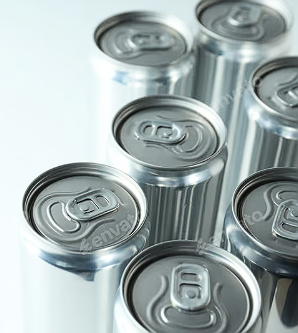Intacto: (125, 240, 262, 332), (23, 166, 147, 253), (113, 93, 226, 166), (225, 167, 298, 265), (97, 12, 198, 77), (193, 0, 298, 50), (250, 55, 298, 130)
